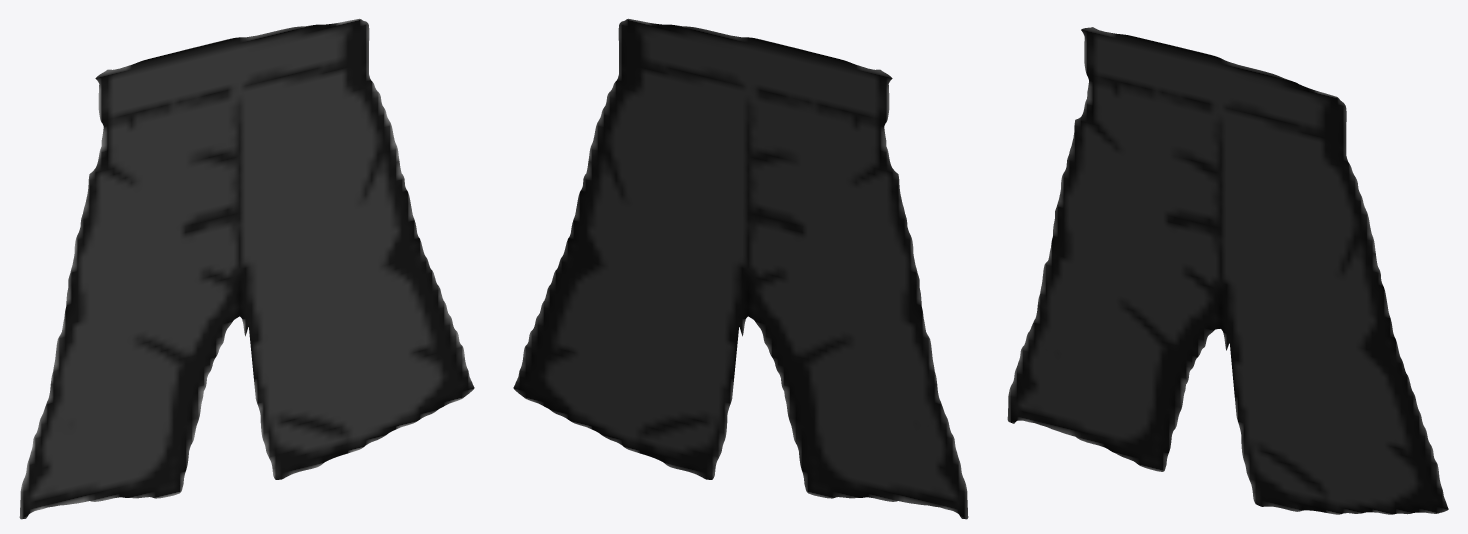
The model's file is giftgoods016.fbx.
3 views of the same model, side by side, from view 1: azimuth 30°, elevation 25°; view 2: azimuth 150°, elevation 25°; view 3: azimuth 330°, elevation 25° (orthographic). The views are drawn at different scales.
Parts seen in each view (by area): view 1: giftgoods016; view 2: giftgoods016; view 3: giftgoods016.
Part boxes in pixels (x1,y1,x2,y2): giftgoods016: [19, 18, 474, 519]; giftgoods016: [513, 18, 968, 519]; giftgoods016: [1007, 27, 1448, 514].
Size of the model in its own units: 0.5822 by 0.5529 by 0.
